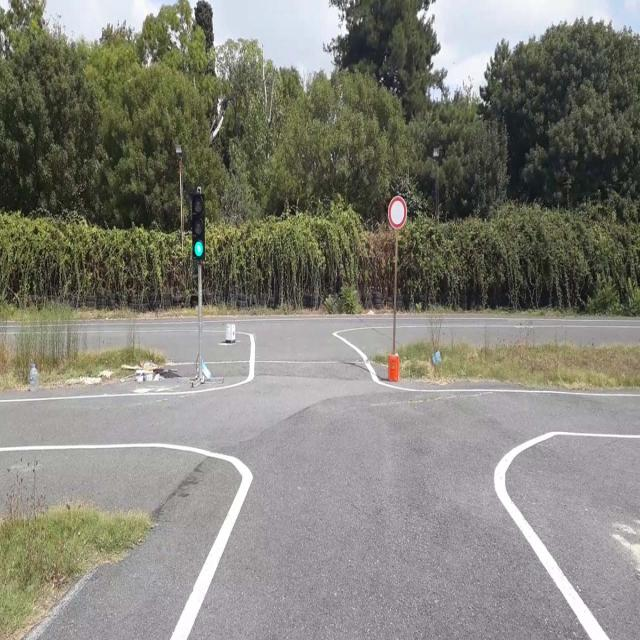yesil: (192, 194, 205, 260)
